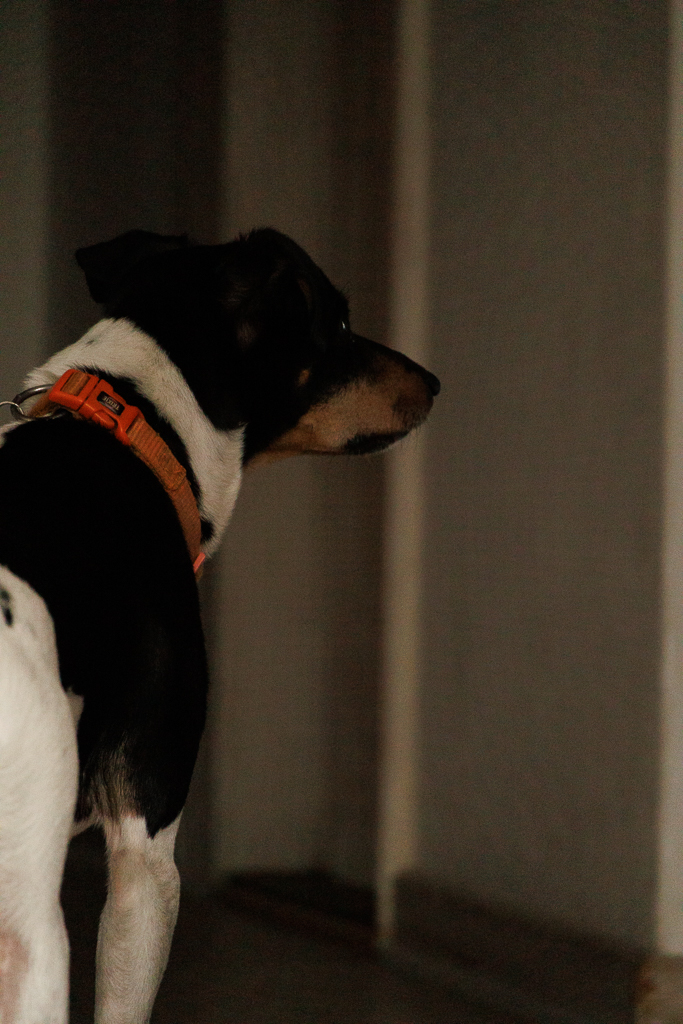Dog: (4, 212, 459, 1024)
